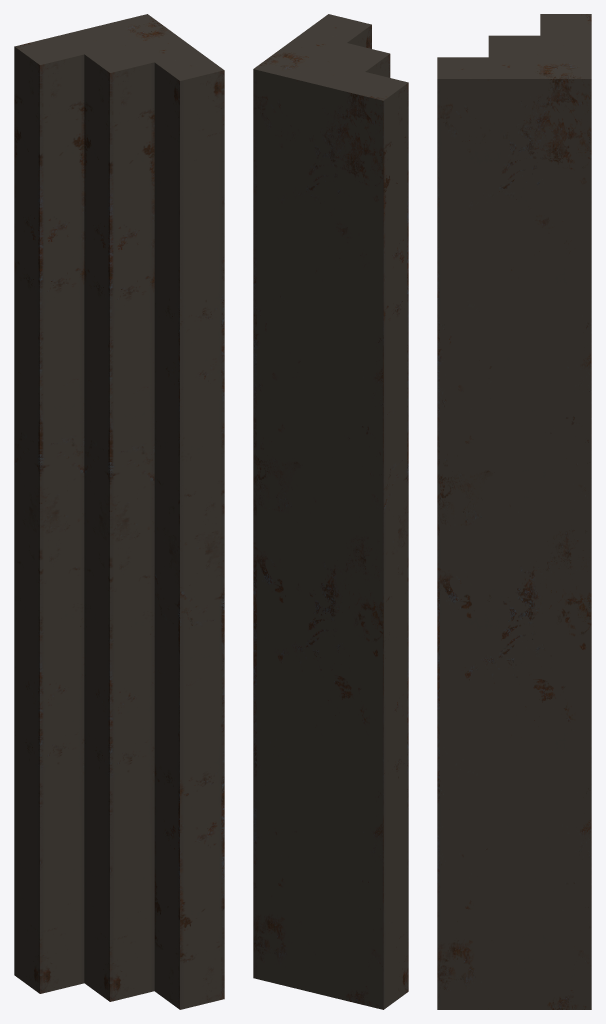
Rendered from Metal_Column_4.gltf.
3 renders of one model, left to right at view 1: azimuth 30°, elevation 25°; view 2: azimuth 150°, elevation 25°; view 3: azimuth 270°, elevation 25°, orthographic. The views are drawn at different scales.
Visible parts, largest first — view 1: Metal_Column_4; view 2: Metal_Column_4; view 3: Metal_Column_4.
Boxes of the visible parts, box(x1,y1,x2,y2) form: Metal_Column_4: box(14, 14, 224, 1009); Metal_Column_4: box(253, 14, 408, 1009); Metal_Column_4: box(437, 14, 591, 1009).
Bounding box in the file's own units: 0.6 × 4 × 0.6.
1 material, 1 textured.
